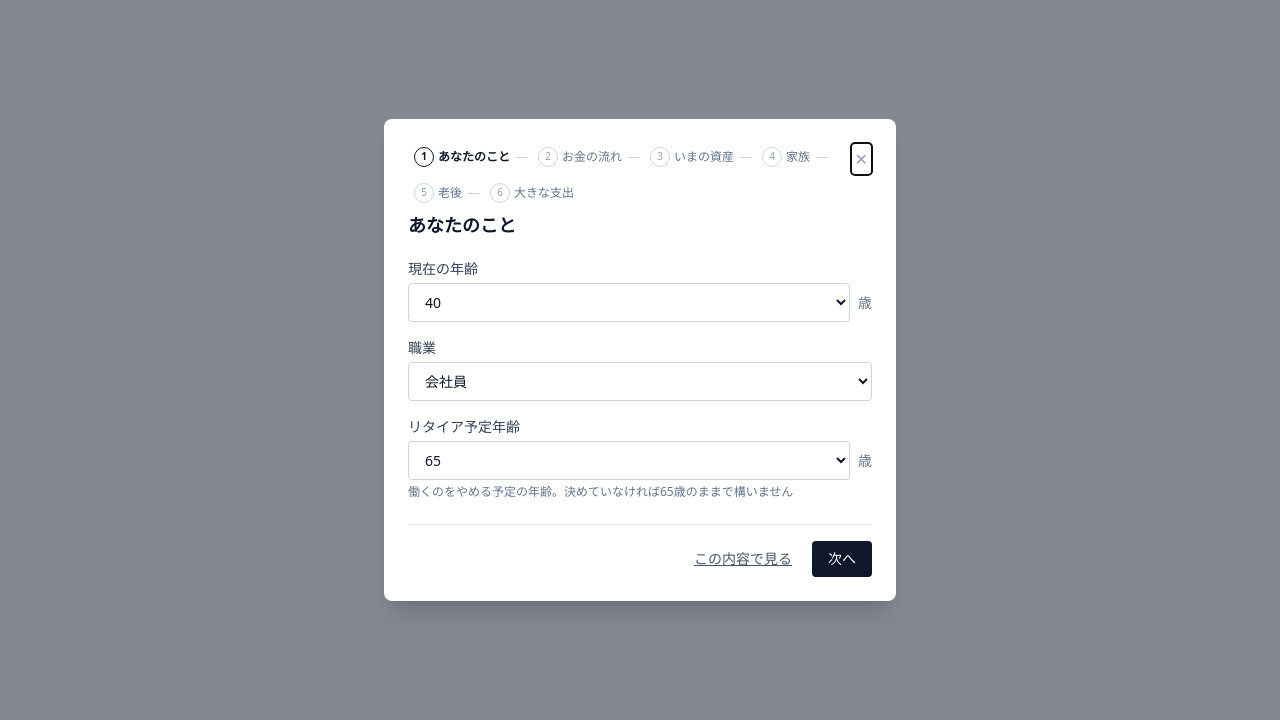
Scenario: HearingModal › 4番目以降のステップには「スキップ」がある
This screenshot has width=1280, height=720.
Step 1. Click the button "次へ" → (842, 559), box [812,541,872,577]
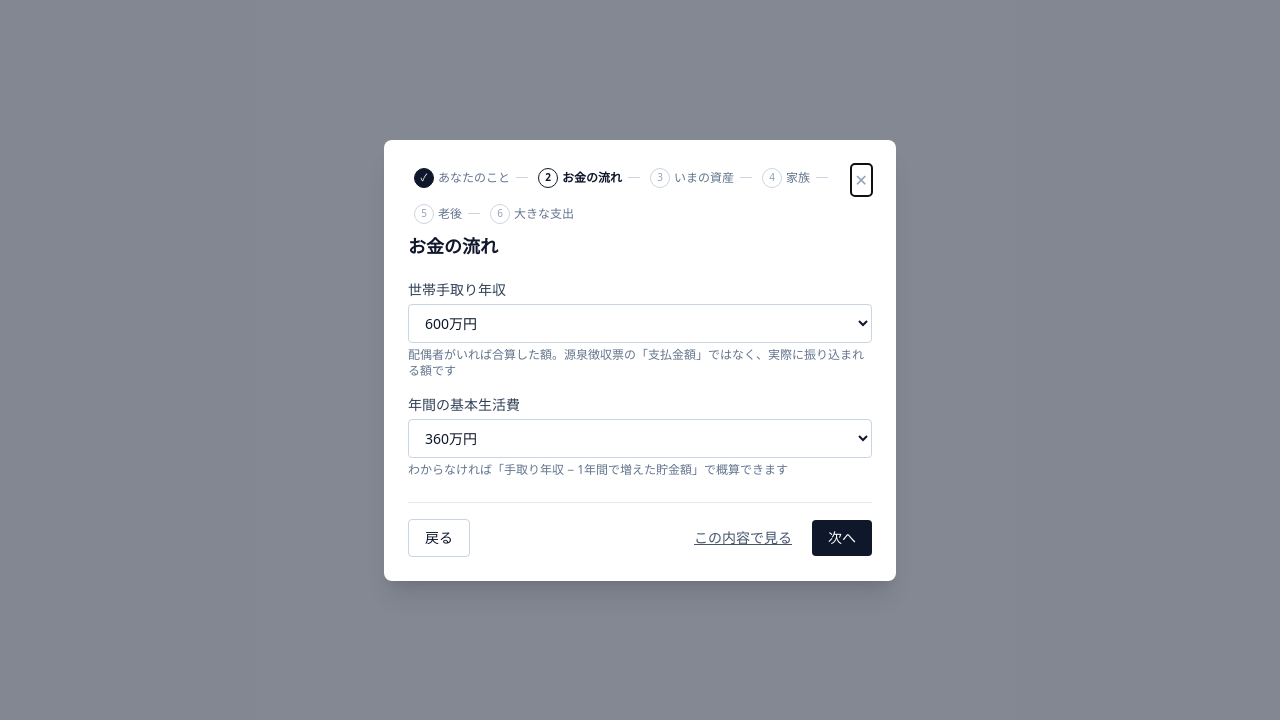
Step 2. Click the button "次へ" → (842, 538), box [812,520,872,556]
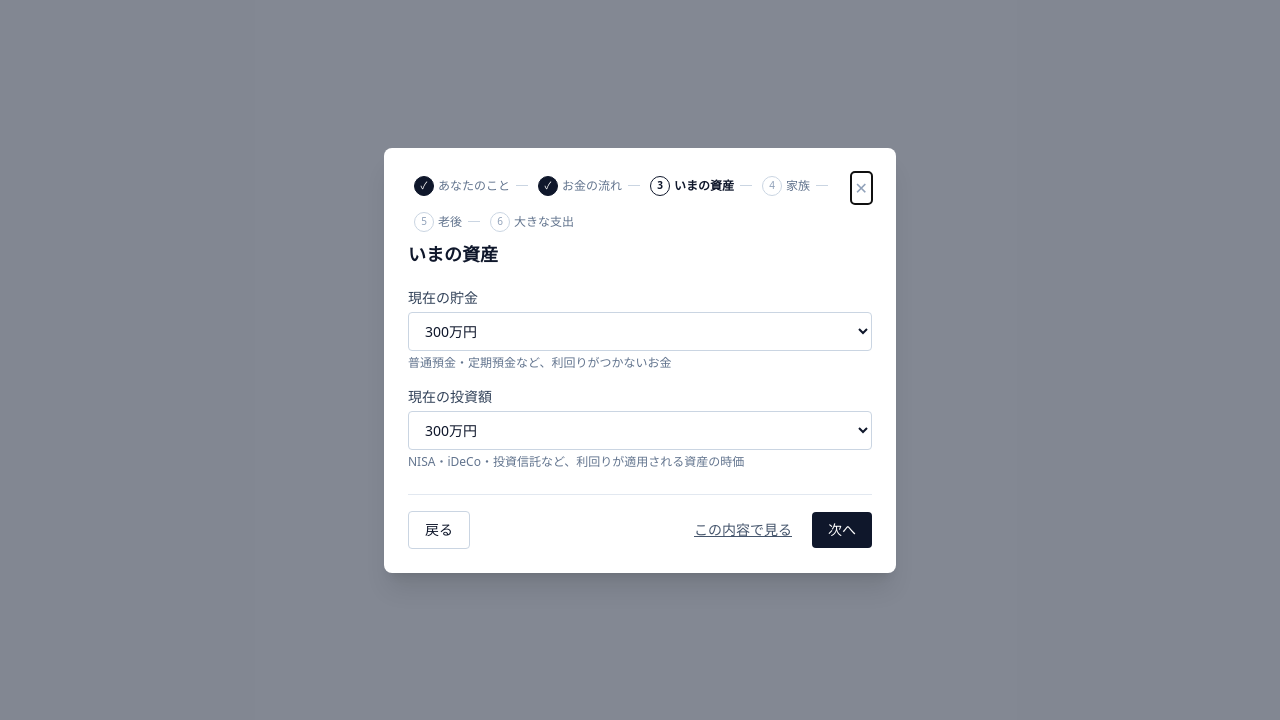
Step 3. Click the button "次へ" → (842, 530), box [812,512,872,548]
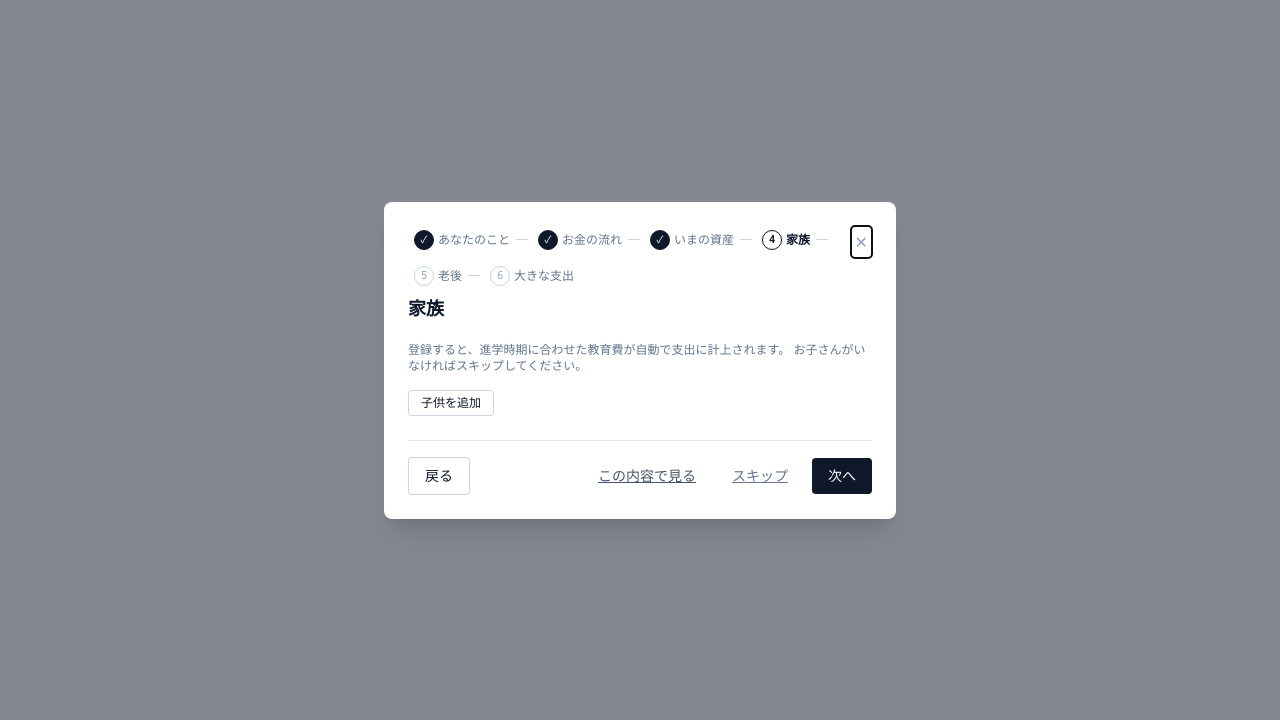
Check: the button "スキップ" is shown, box [716,458,804,494]
